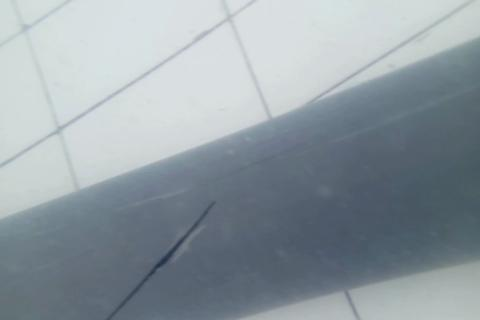keretakan: (106, 198, 218, 320)
